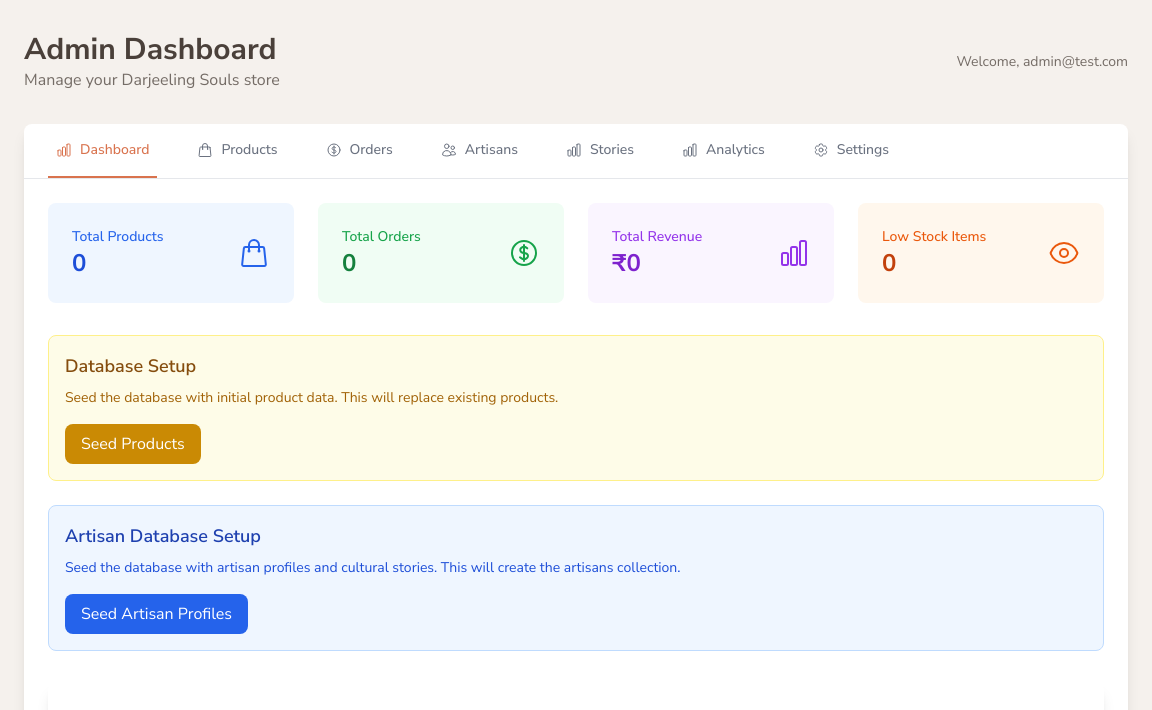
Scenario: Story Management in Admin Panel › should handle add story button click
What coordinates should you click on to do the following:
click the button "Stories"
I would click on:
 (600, 151)
Its box is [558, 124, 642, 178].
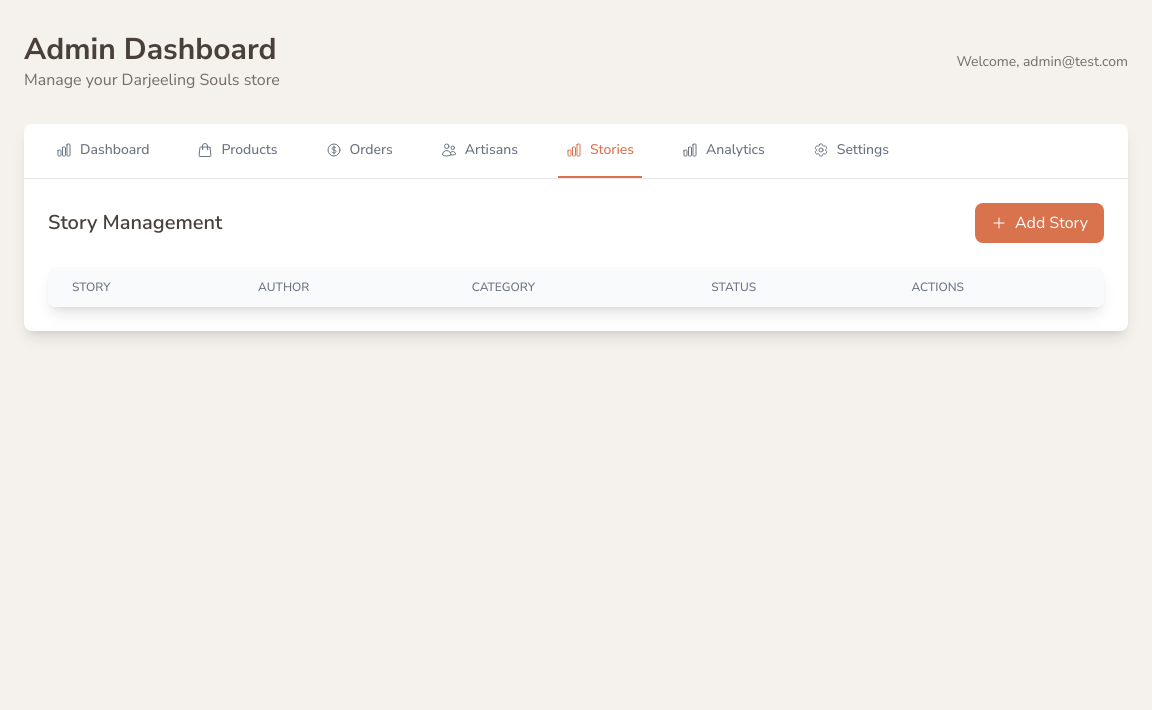
What coordinates should you click on to do the following:
click the button "Add Story"
I would click on:
 (1040, 223)
Its box is [975, 203, 1104, 243].
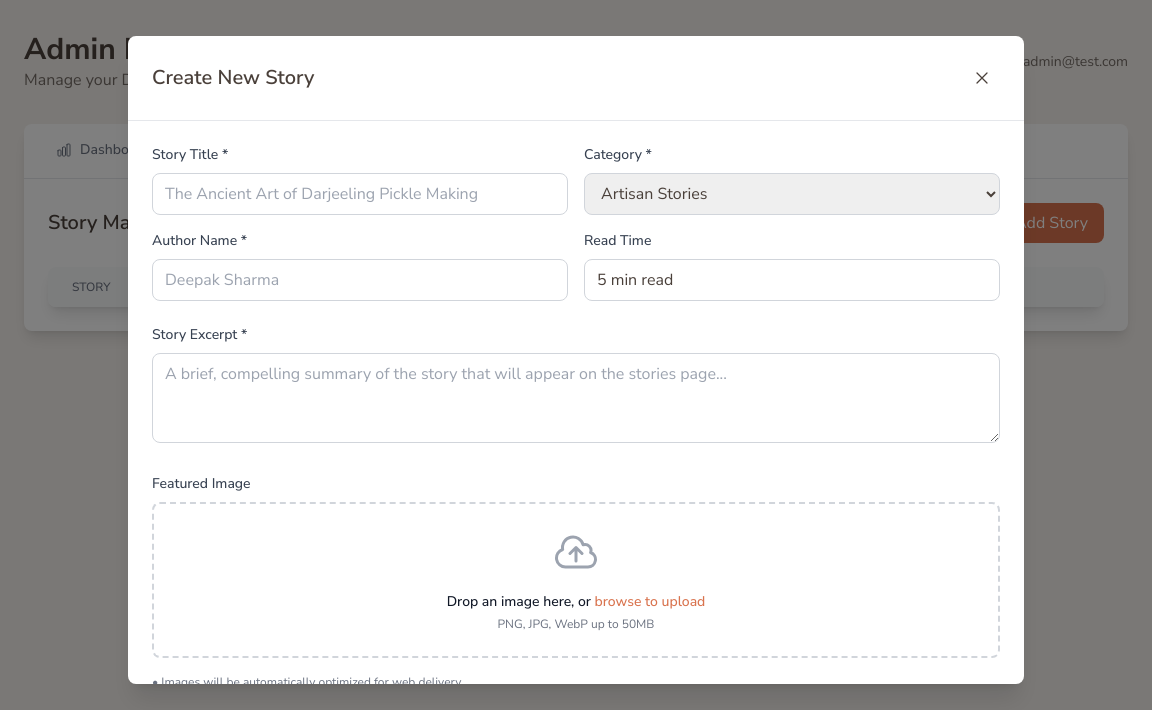
expect the heading "Create New Story" is shown: met, box [152, 64, 314, 92]
